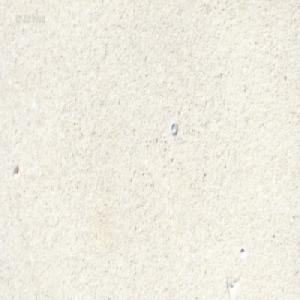Washer: (170, 121, 177, 135)
